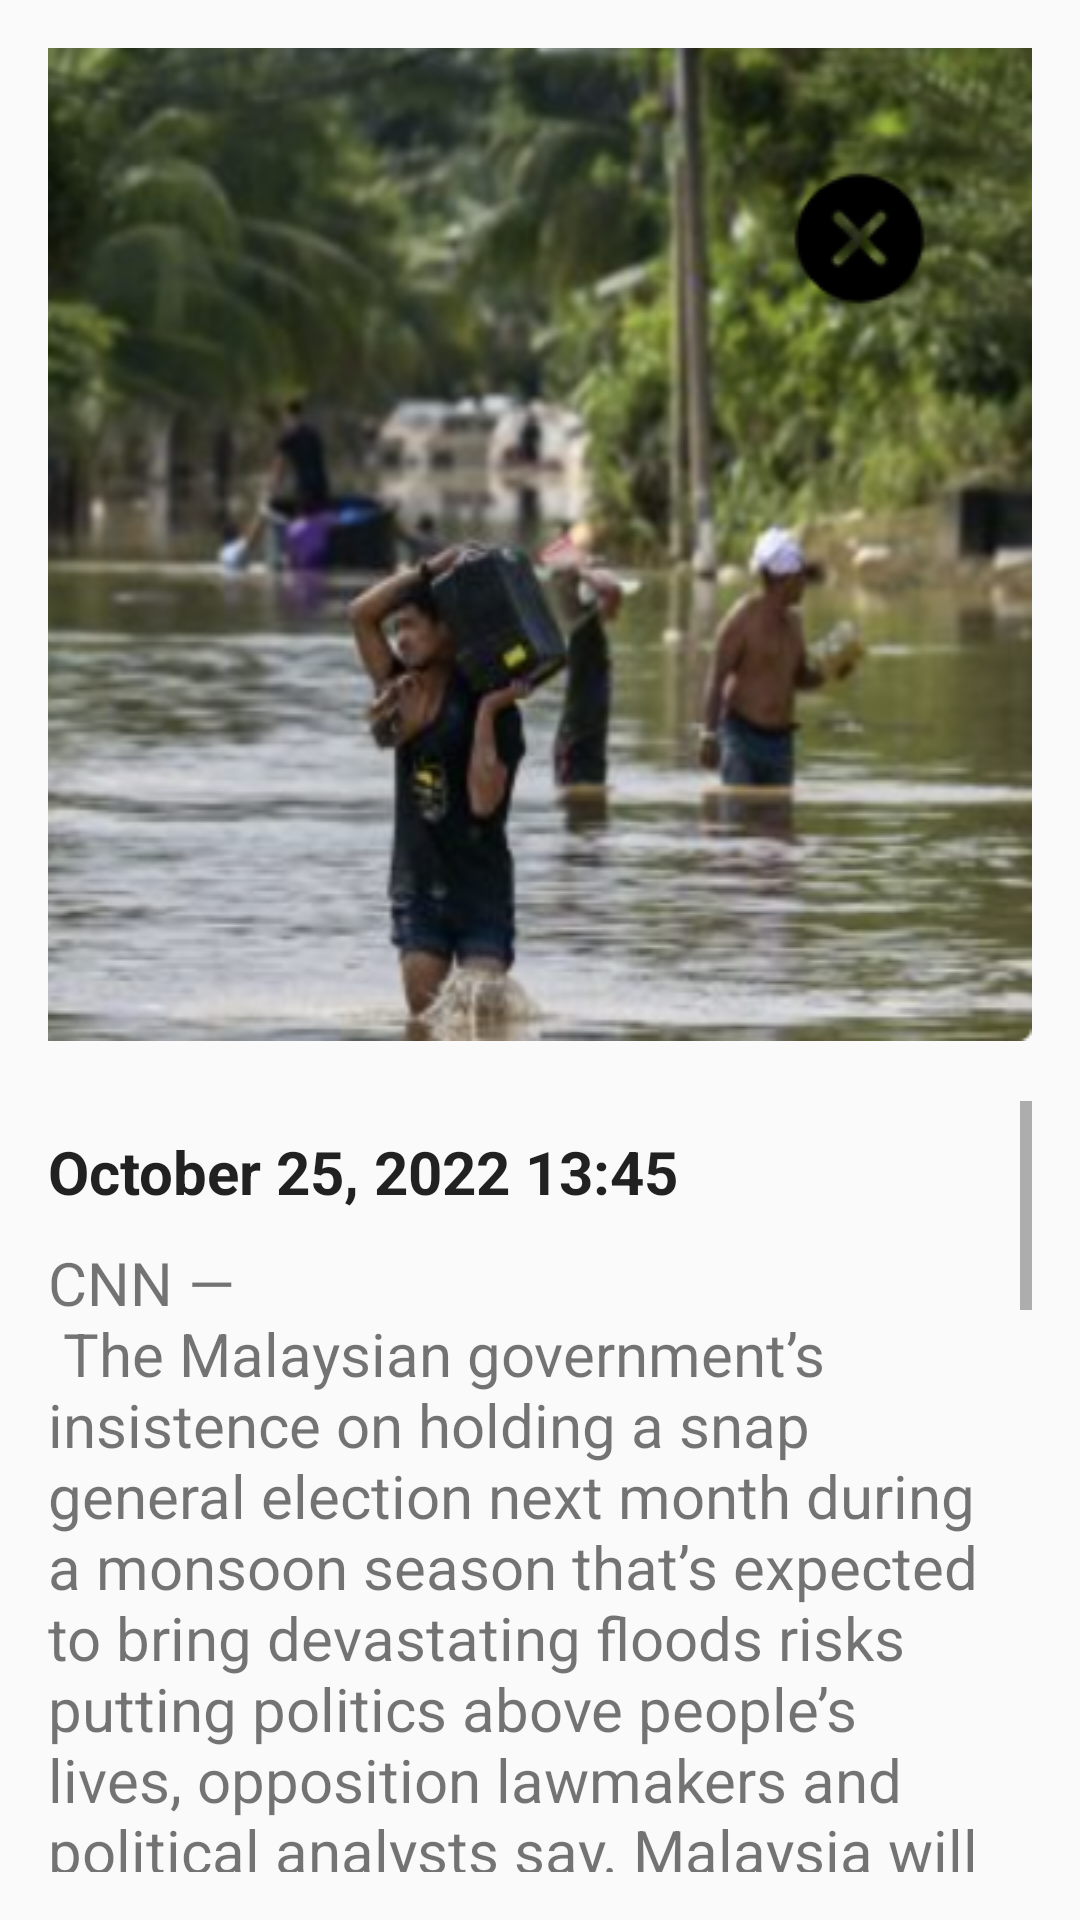

Where to tap for icons on this 1080*1920 app screen, as (x=x, y=y):
cancel: (x=859, y=238)
